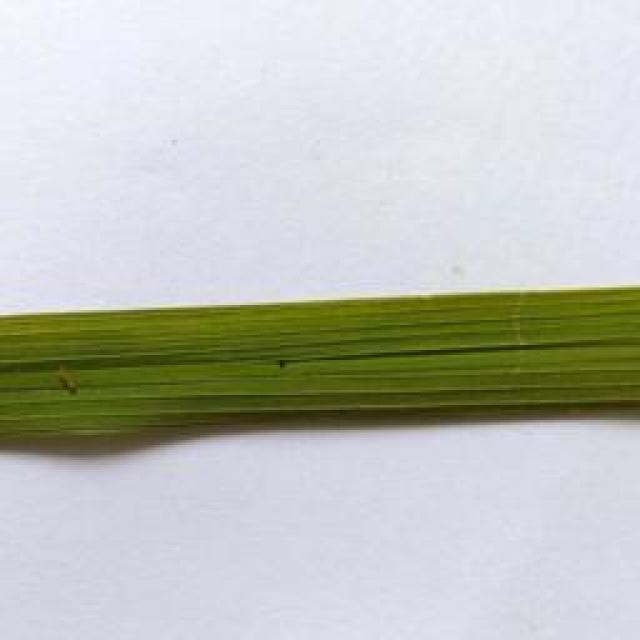Brown_Spot: (276, 350, 286, 372)
